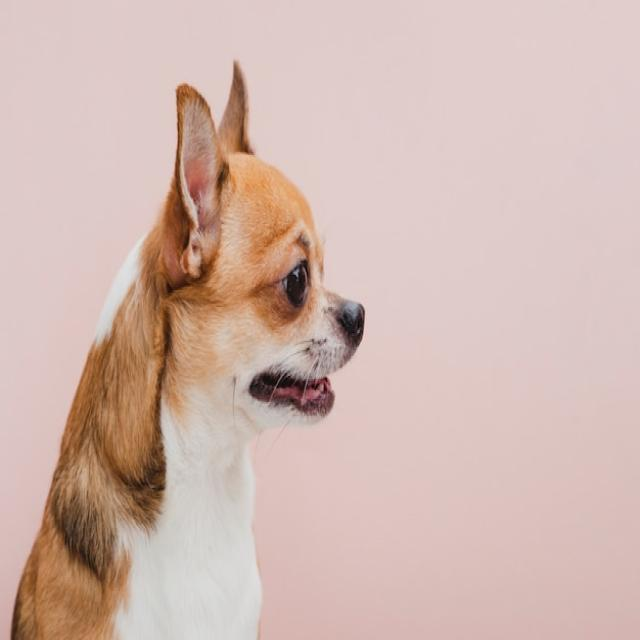Dog: (11, 57, 365, 640)
